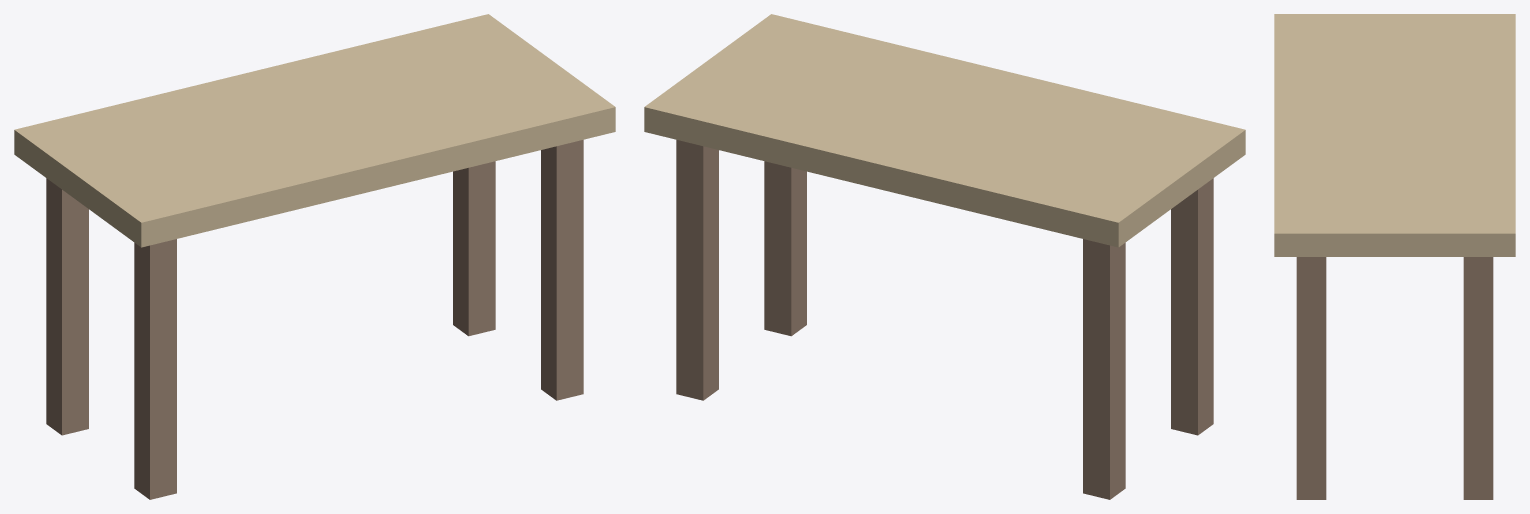
File: binding-table.gltf
3 renders of one model, left to right at view 1: azimuth 30°, elevation 25°; view 2: azimuth 150°, elevation 25°; view 3: azimuth 270°, elevation 25°, orthographic. The views are drawn at different scales.
Visible parts, largest first — view 1: Top, LegC, LegD, LegA, LegB; view 2: Top, LegA, LegB, LegC, LegD; view 3: Top, LegB, LegD.
Part boxes in pixels (left/top/right/bottom): Top: left=14, top=14, right=615, bottom=247; LegC: left=134, top=239, right=176, bottom=499; LegD: left=541, top=140, right=583, bottom=400; LegA: left=46, top=178, right=88, bottom=435; LegB: left=453, top=161, right=495, bottom=336; Top: left=644, top=14, right=1245, bottom=247; LegA: left=1083, top=239, right=1125, bottom=499; LegB: left=676, top=140, right=718, bottom=400; LegC: left=1171, top=178, right=1213, bottom=435; LegD: left=764, top=161, right=806, bottom=336; Top: left=1274, top=14, right=1515, bottom=256; LegB: left=1463, top=257, right=1493, bottom=499; LegD: left=1296, top=257, right=1326, bottom=499.
Bounding box in the file's own units: 1.4 × 0.82 × 0.65.
